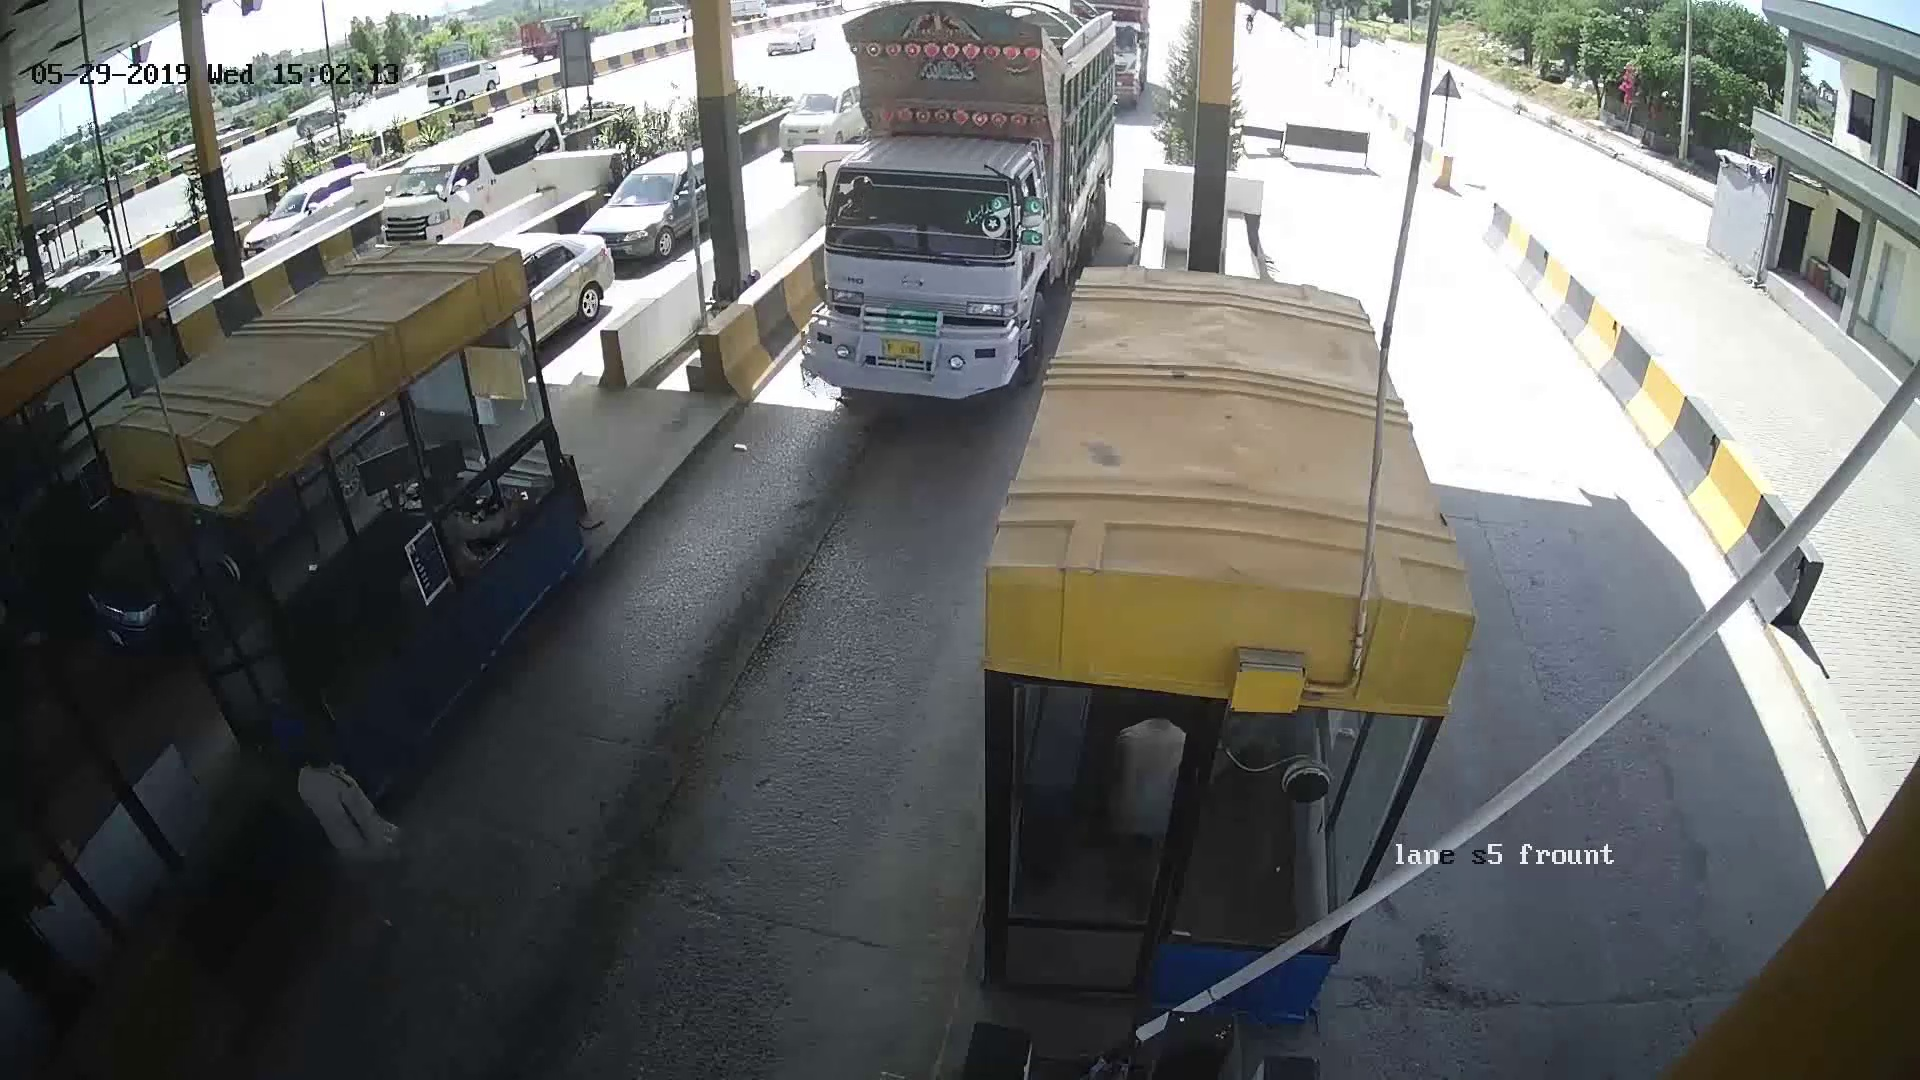truck: (814, 36, 1091, 345)
